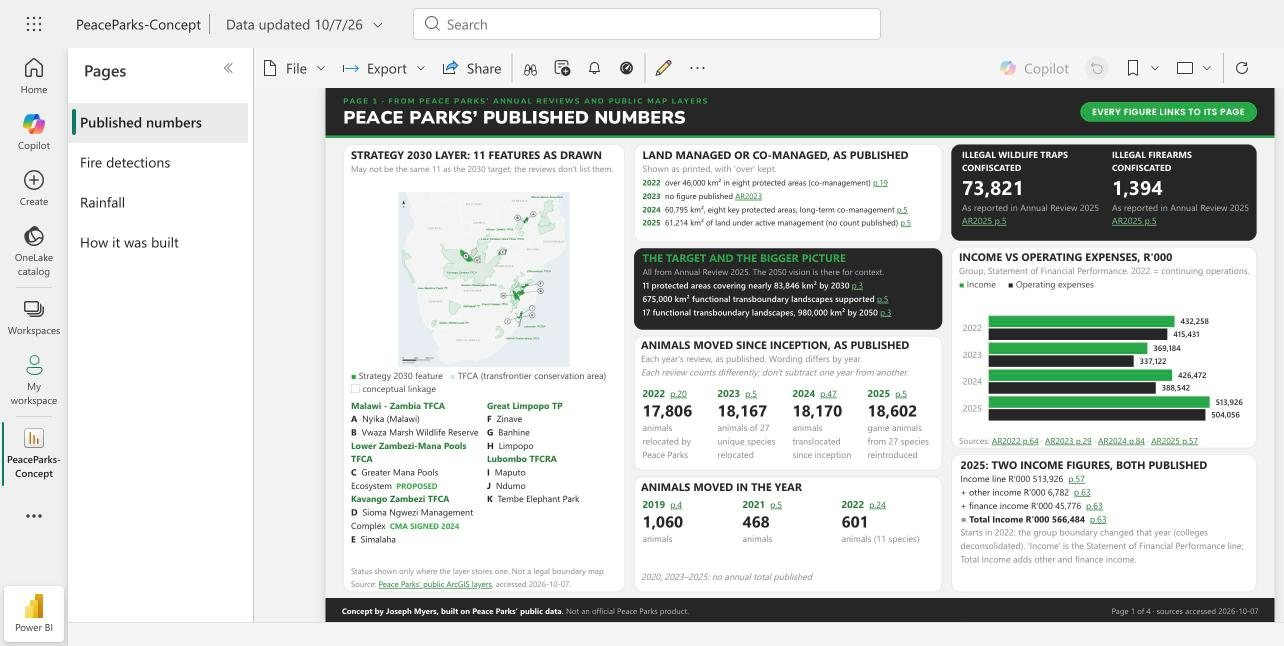

The dashboard page shown, as its layout file describes it:
{"tool":"powerbi","page":{"name":"Published numbers","canvas":[1280,720],"ordinal":0},"visuals":[{"type":"textbox","box":[32,79,364,60],"z":1001},{"type":"image","box":[98,140,231,236],"z":1002},{"type":"textbox","box":[32,378,364,40],"z":1003},{"type":"textbox","box":[32,418,180,222],"z":1004},{"type":"textbox","box":[216,418,180,222],"z":1005},{"type":"textbox","box":[32,640,364,37],"z":1006},{"type":"textbox","box":[424,79,400,128],"z":1007},{"type":"textbox","box":[424,219,400,104],"z":1008},{"type":"textbox","box":[424,336,400,67],"z":1009},{"type":"textbox","box":[424,402,97,113],"z":1010},{"type":"textbox","box":[525,402,97,113],"z":1011},{"type":"textbox","box":[626,402,97,113],"z":1012},{"type":"textbox","box":[727,402,97,113],"z":1013},{"type":"textbox","box":[424,527,400,24],"z":1014},{"type":"textbox","box":[424,551,130,96],"z":1015},{"type":"textbox","box":[558,551,130,96],"z":1016},{"type":"textbox","box":[692,551,130,96],"z":1017},{"type":"textbox","box":[424,649,400,26],"z":1018},{"type":"textbox","box":[852,80,196,122],"z":1019},{"type":"textbox","box":[1054,80,196,122],"z":1020},{"type":"textbox","box":[852,217,396,67],"z":1021},{"type":"clusteredBarChart","fields":{"Category":["P1_Finance5.YearLabel"],"Series":["P1_Finance5.Line"],"Y":["P1_Finance5.Finance R000"]},"box":[852,285,396,179],"z":1022},{"type":"textbox","box":[852,465,396,19],"z":1023},{"type":"textbox","box":[852,497,396,180],"z":1024},{"type":"textbox","box":[0,688,860,32],"z":1900},{"type":"textbox","box":[860,688,420,32],"z":1901}]}

Visuals, with their boxes on the page's 1280x720 design canvas (x1, y1, x2, y2). These are canvas units, not pixel positions in the 1284x646 screenshot, which may show the page scaled, cropped or inside an application window:
textbox: bbox=(32, 79, 396, 139)
image: bbox=(98, 140, 329, 376)
textbox: bbox=(32, 378, 396, 418)
textbox: bbox=(32, 418, 212, 640)
textbox: bbox=(216, 418, 396, 640)
textbox: bbox=(32, 640, 396, 677)
textbox: bbox=(424, 79, 824, 207)
textbox: bbox=(424, 219, 824, 323)
textbox: bbox=(424, 336, 824, 403)
textbox: bbox=(424, 402, 521, 515)
textbox: bbox=(525, 402, 622, 515)
textbox: bbox=(626, 402, 723, 515)
textbox: bbox=(727, 402, 824, 515)
textbox: bbox=(424, 527, 824, 551)
textbox: bbox=(424, 551, 554, 647)
textbox: bbox=(558, 551, 688, 647)
textbox: bbox=(692, 551, 822, 647)
textbox: bbox=(424, 649, 824, 675)
textbox: bbox=(852, 80, 1048, 202)
textbox: bbox=(1054, 80, 1250, 202)
textbox: bbox=(852, 217, 1248, 284)
clusteredBarChart - P1_Finance5.YearLabel x P1_Finance5.Line: bbox=(852, 285, 1248, 464)
textbox: bbox=(852, 465, 1248, 484)
textbox: bbox=(852, 497, 1248, 677)
textbox: bbox=(0, 688, 860, 720)
textbox: bbox=(860, 688, 1280, 720)
